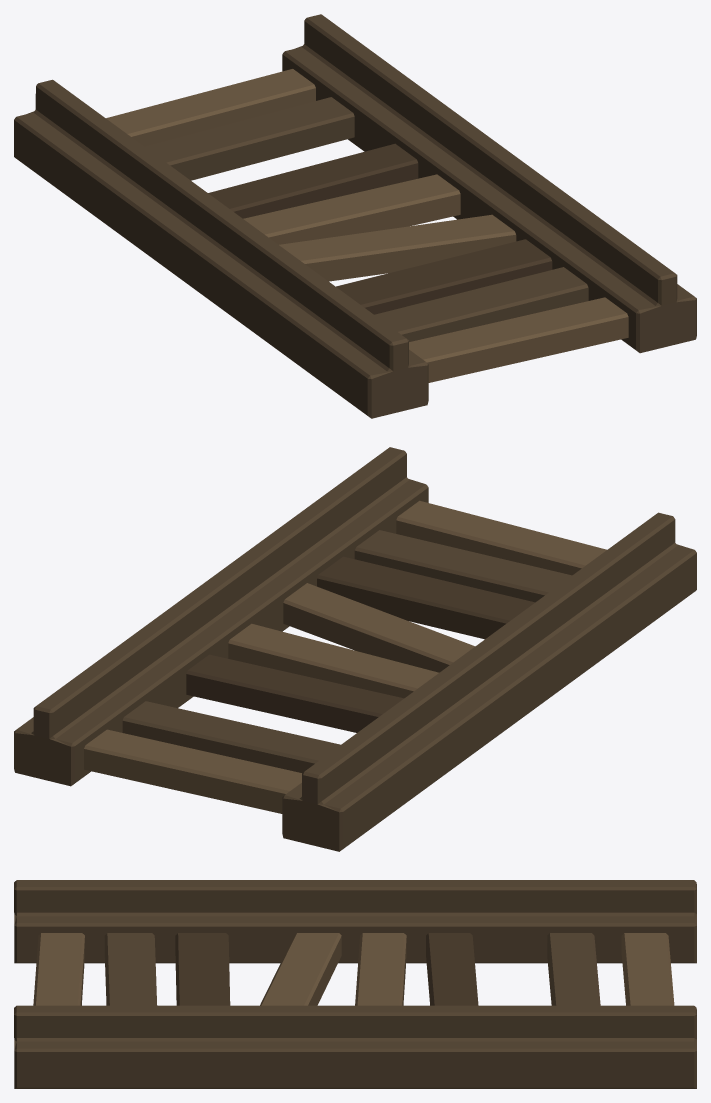
The model's file is ZLP_Build_F_9.FBX.
The picture shows the model from 3 angles, top to bottom: view 1: azimuth 30°, elevation 25°; view 2: azimuth 150°, elevation 25°; view 3: azimuth 270°, elevation 25°; orthographic projection. The views are drawn at different scales.
Visible parts, largest first — view 1: ZLP_Build_F_9; view 2: ZLP_Build_F_9; view 3: ZLP_Build_F_9.
Boxes of the visible parts, <box> form: ZLP_Build_F_9: <box>14,14,696,418</box>; ZLP_Build_F_9: <box>14,447,696,851</box>; ZLP_Build_F_9: <box>14,880,696,1088</box>.
Size of the model in its own units: 101 by 20.63 by 189.
